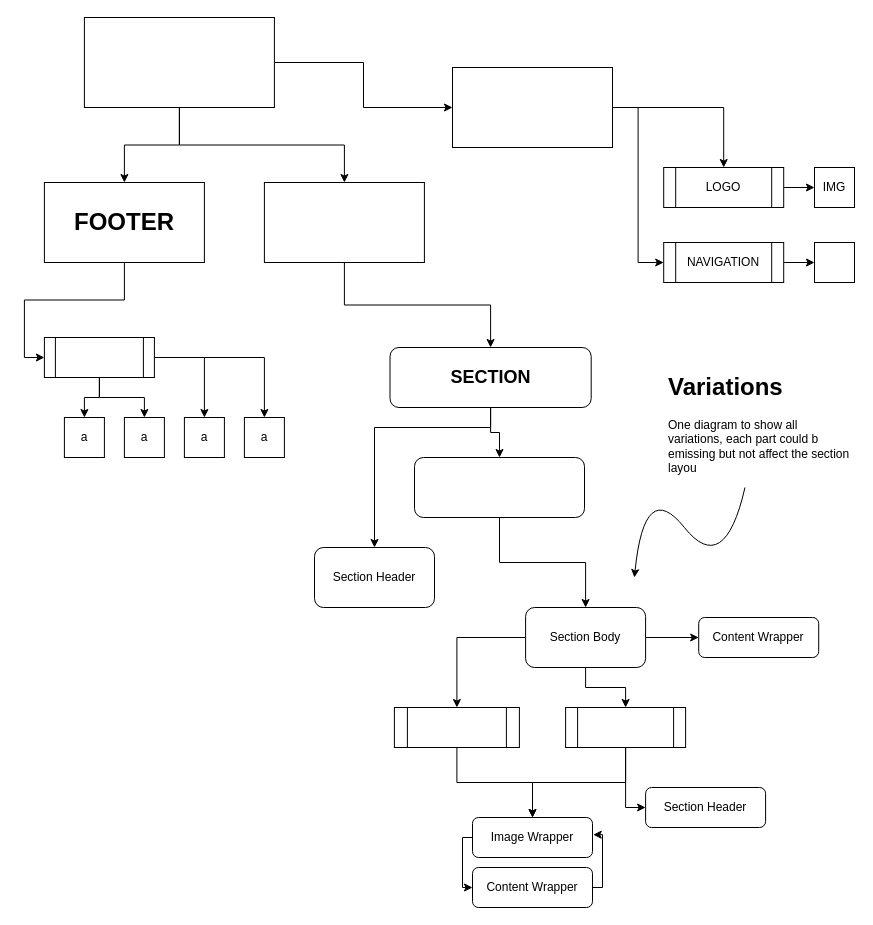
Some shapes in this 873 by 925 pixel diagram are drawn without their labels. The shapes that lost their labels are listed below. From the top down, each one's centre as x and y in pixels, then its label:
At point (178, 62): "DOM".
At point (532, 107): "HEADER".
At point (343, 222): "MAIN".
At point (834, 262): "LI".
At point (98, 357): "Soc Links".
At point (499, 487): "Section Wrapper".
At point (456, 727): "Split Left".
At point (625, 727): "Split Right".
